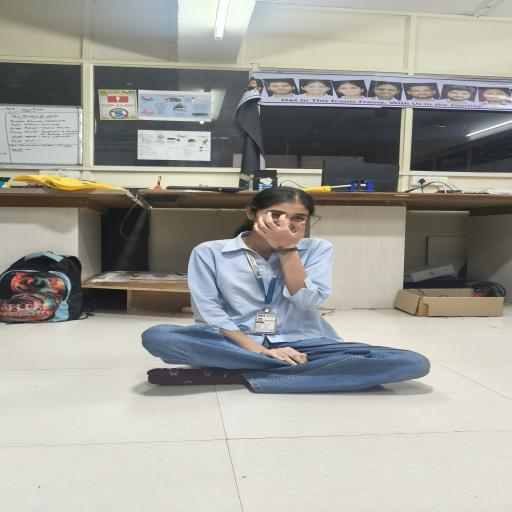survivor: (141, 186, 431, 394)
